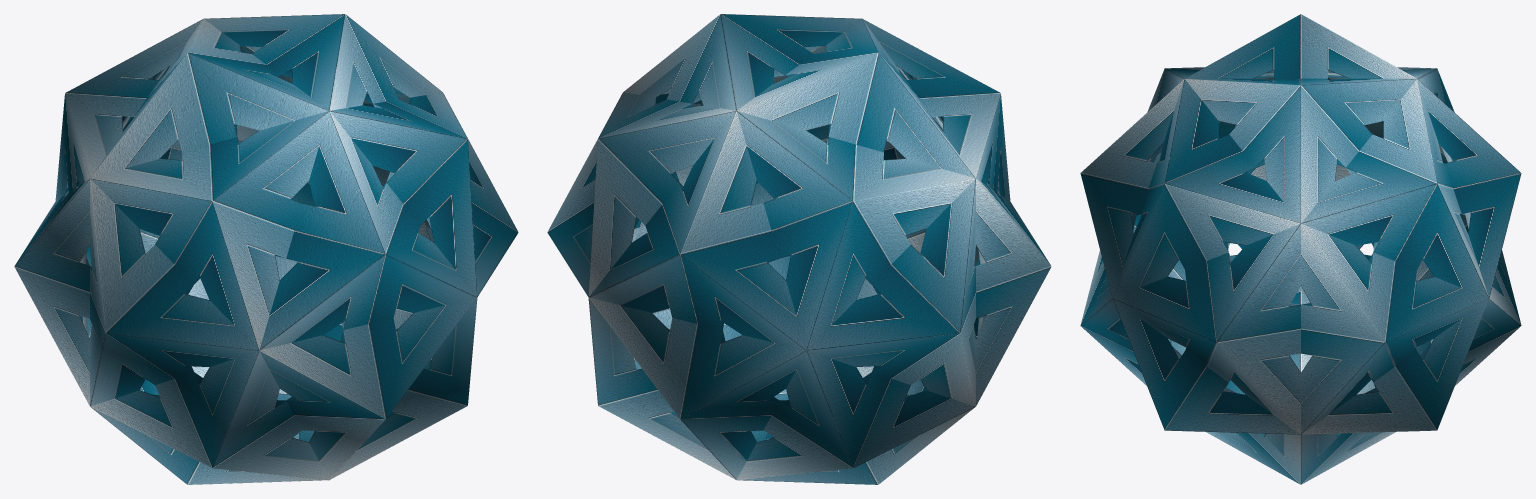
Rendered from SmallTriambicIcosahedron43.gltf.
3 renders of one model, left to right at view 1: azimuth 30°, elevation 25°; view 2: azimuth 150°, elevation 25°; view 3: azimuth 270°, elevation 25°, orthographic. The views are drawn at different scales.
Parts seen in each view (by area): view 1: SmallTriambicIcosahedron; view 2: SmallTriambicIcosahedron; view 3: SmallTriambicIcosahedron.
Boxes of the visible parts, <box> form: SmallTriambicIcosahedron: <box>14,14,518,484</box>; SmallTriambicIcosahedron: <box>547,14,1051,484</box>; SmallTriambicIcosahedron: <box>1080,14,1521,484</box>.
Size of the model in its own units: 1.45 by 1.45 by 1.45.
1 material, 1 textured.
